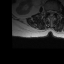CCS_normal: (50, 7, 52, 18)
LFS_normal: (54, 8, 57, 15)
LLS_normal: (52, 8, 54, 16)
RFS_stenosis: (46, 7, 48, 13)
RLS_normal: (48, 7, 50, 15)
